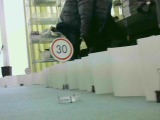speed_30: (49, 37, 74, 62)
